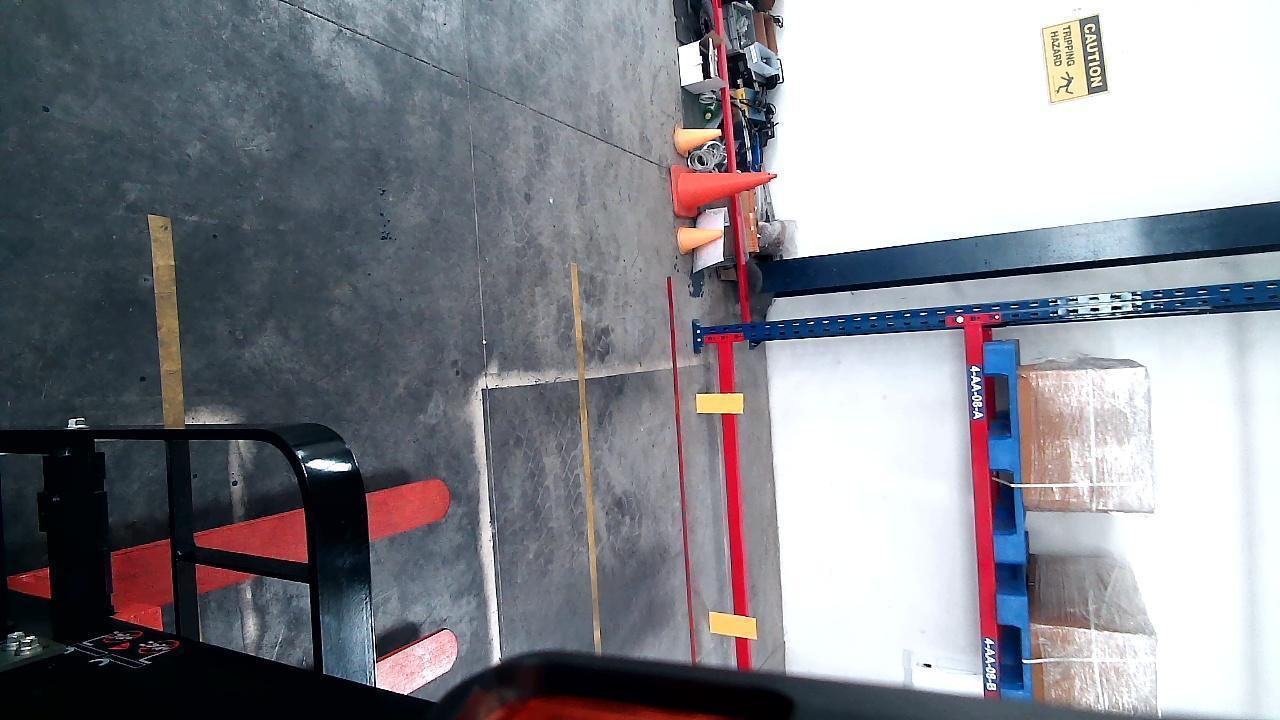red_line: (661, 275, 702, 664)
yellow_line: (568, 266, 606, 651), (147, 210, 184, 426)
